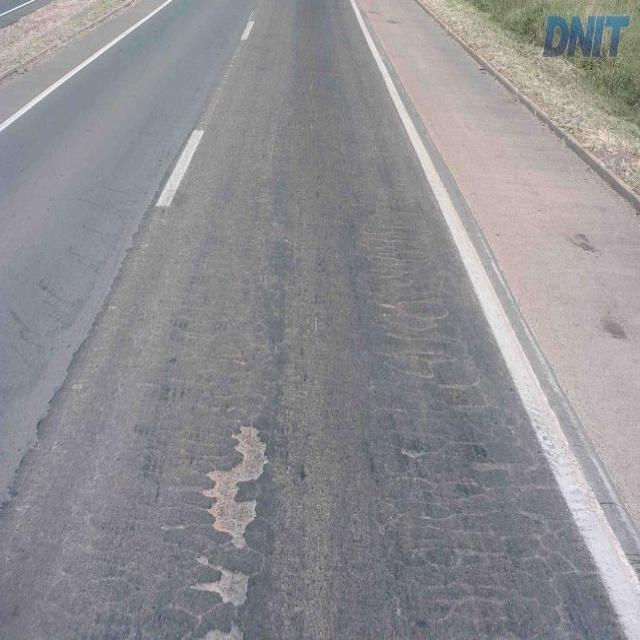pothole: (184, 413, 272, 640)
